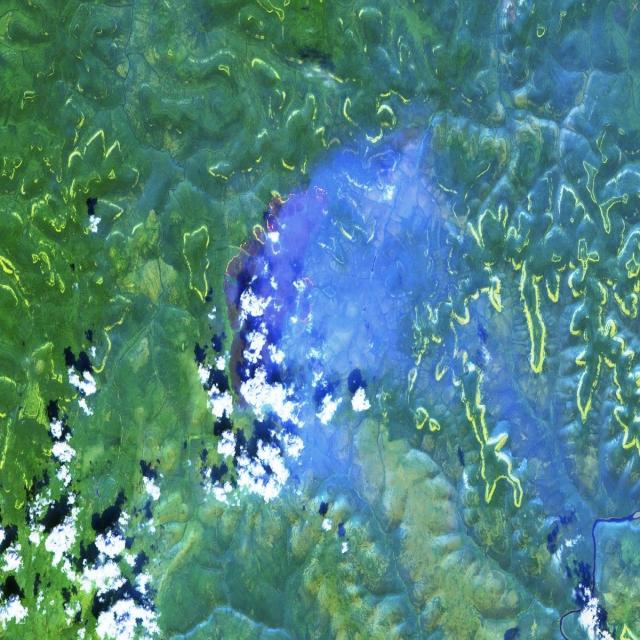fire: (222, 168, 453, 426)
